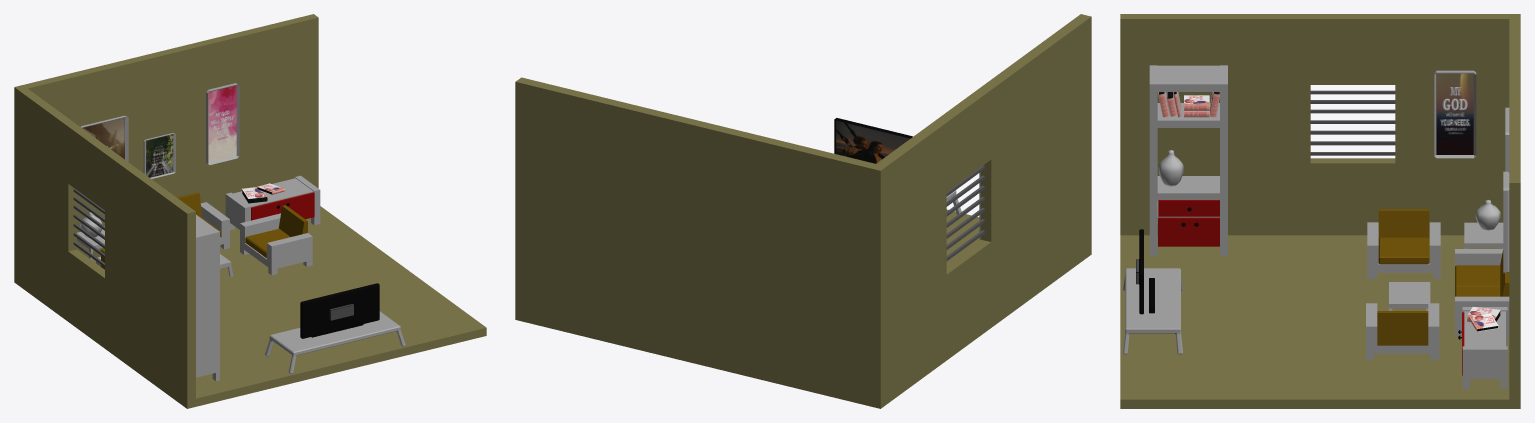
The model's file is Home.fbx.
3 renders of one model, left to right at view 1: azimuth 30°, elevation 25°; view 2: azimuth 150°, elevation 25°; view 3: azimuth 270°, elevation 25°, orthographic. The views are drawn at different scales.
Visible parts, largest first — view 1: polySurface8, polySurface16, pCube39, pCube45, pCube38, pCube47, pCube46, polySurface38, polySurface45, polySurface37, polySurface42, polySurface40 (+5 smaller); view 2: polySurface8, pCube39; view 3: polySurface8, pCube48, pCube38, polySurface11, polySurface39, polySurface46, polySurface16, polySurface34, polySurface20, polySurface36, polySurface12, pCube8 (+26 smaller).
Boxes of the visible parts, x1,y1,x2,y2 form: polySurface8: (14,14,486,408); polySurface16: (196,231,219,381); pCube39: (300,283,379,338); pCube45: (206,83,239,165); pCube38: (265,311,405,373); pCube47: (143,133,175,178); pCube46: (81,115,128,161); polySurface38: (267,233,312,262); polySurface45: (233,178,313,207); polySurface37: (240,240,312,275); polySurface42: (225,192,250,230); polySurface40: (240,213,280,243); polySurface8: (515,14,1091,408); pCube39: (834,118,912,163); polySurface8: (1120,14,1520,408); pCube48: (1434,70,1476,158); pCube38: (1123,268,1182,354); polySurface11: (1152,65,1223,91); polySurface39: (1377,311,1428,345); polySurface46: (1462,346,1507,388); polySurface16: (1149,65,1157,255); polySurface34: (1378,209,1429,238); polySurface20: (1220,65,1227,255); polySurface36: (1378,235,1429,264); polySurface12: (1157,176,1219,200); pCube8: (1389,282,1430,310).
Size of the model in its own units: 7.18 by 4.47 by 7.18.
